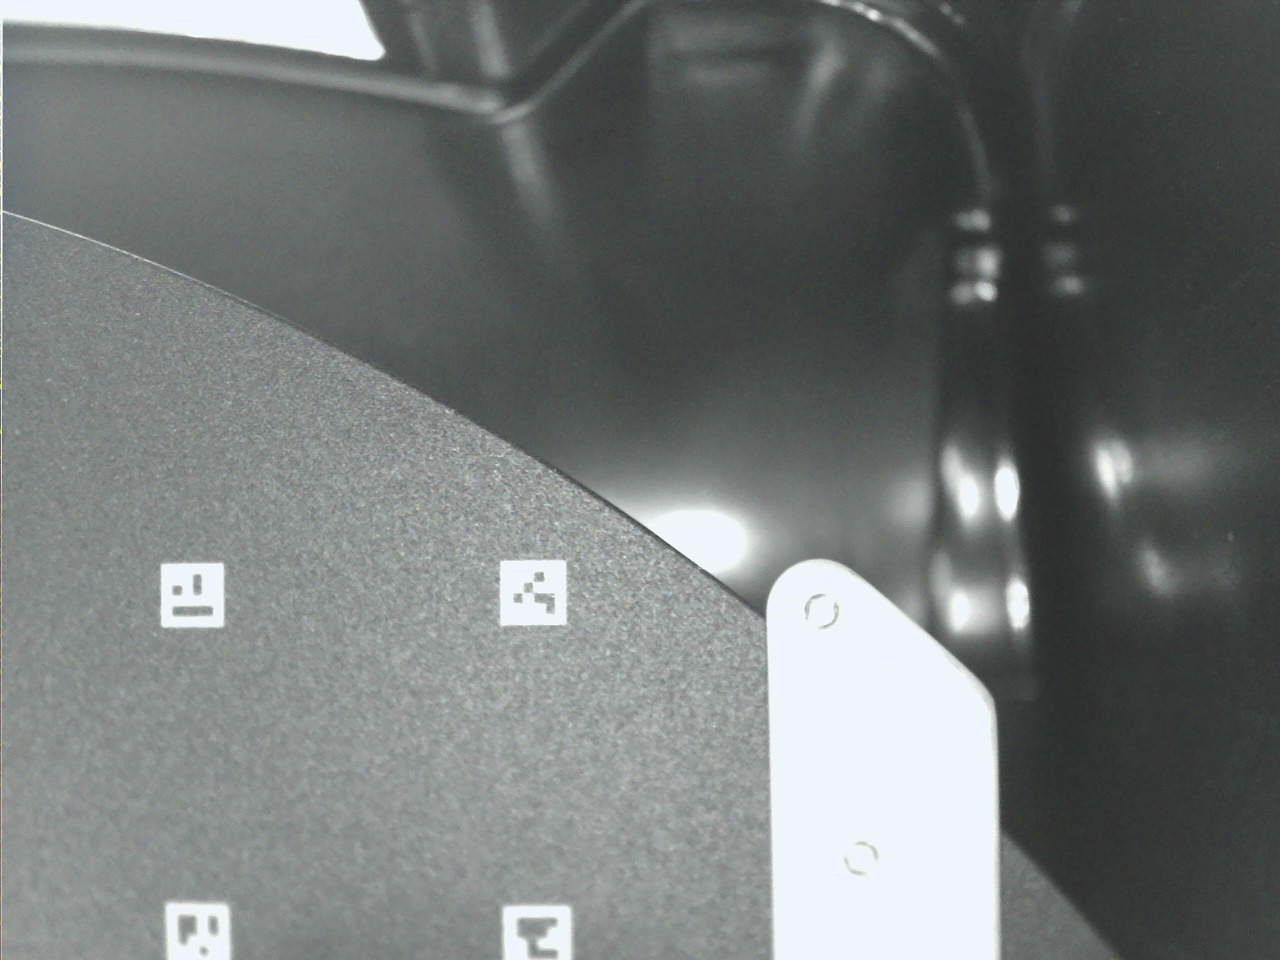tip: (749, 535, 1023, 960)
